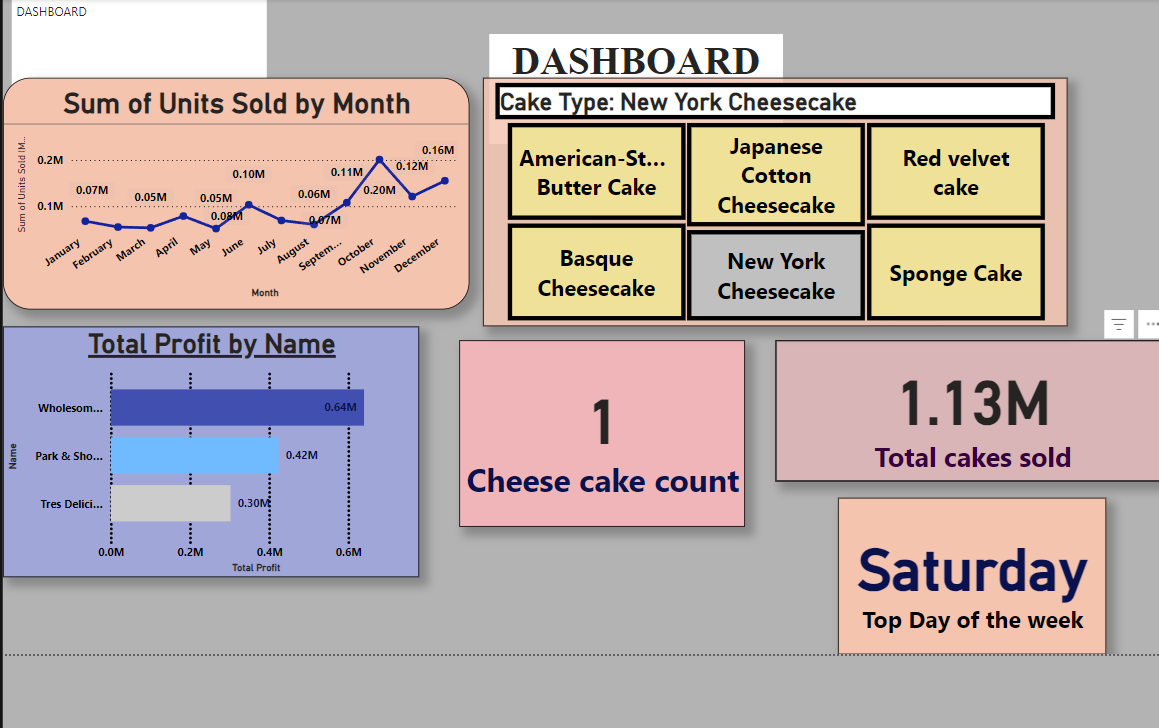

What the dashboard file says about the page in this screenshot:
{"tool":"powerbi","page":{"name":"Dashboard","canvas":[1280,720],"ordinal":6},"visuals":[{"type":"textbox","box":[10,0,280,280],"z":0},{"type":"textbox","box":[534.3,38.6,322.2,121.2],"z":1},{"type":"lineChart","fields":{"Category":["Table3.Date.Variation.Date Hierarchy.Month"],"Y":["Table3.Units Sold"]},"box":[0,86.7,512.2,254.7],"z":2},{"type":"card","fields":{"Values":["Cake types.Total cakes sold"]},"box":[848.2,374.5,432.4,155.6],"z":3},{"type":"clusteredBarChart","fields":{"Category":["Customers.Name"],"Y":["Cake types.Total Profit"]},"box":[0,359.4,457.1,275.4],"z":4},{"type":"card","fields":{"Values":["Cake types.Top Day of the week"]},"box":[917,548,294.7,172.1],"z":5},{"type":"card","fields":{"Values":["Cake types.Cheese cake count"]},"box":[501.2,374.5,313.9,205.2],"z":6},{"type":"slicer","fields":{"Values":["Cake types.Cake Type"]},"box":[527.4,86.7,641.7,272.6],"z":7}]}

Visuals, with their boxes on the page's 1280x720 design canvas (x1, y1, x2, y2). These are canvas units, not pixel positions in the 1159x728 screenshot, which may show the page scaled, cropped or inside an application window:
textbox: l=10, t=0, r=290, b=280
textbox: l=534, t=39, r=856, b=160
lineChart - Table3.Date.Variation.Date Hierarchy.Month x Table3.Units Sold: l=0, t=87, r=512, b=341
card - Cake types.Total cakes sold: l=848, t=374, r=1281, b=530
clusteredBarChart - Customers.Name x Cake types.Total Profit: l=0, t=359, r=457, b=635
card - Cake types.Top Day of the week: l=917, t=548, r=1212, b=720
card - Cake types.Cheese cake count: l=501, t=374, r=815, b=580
slicer - Cake types.Cake Type: l=527, t=87, r=1169, b=359
